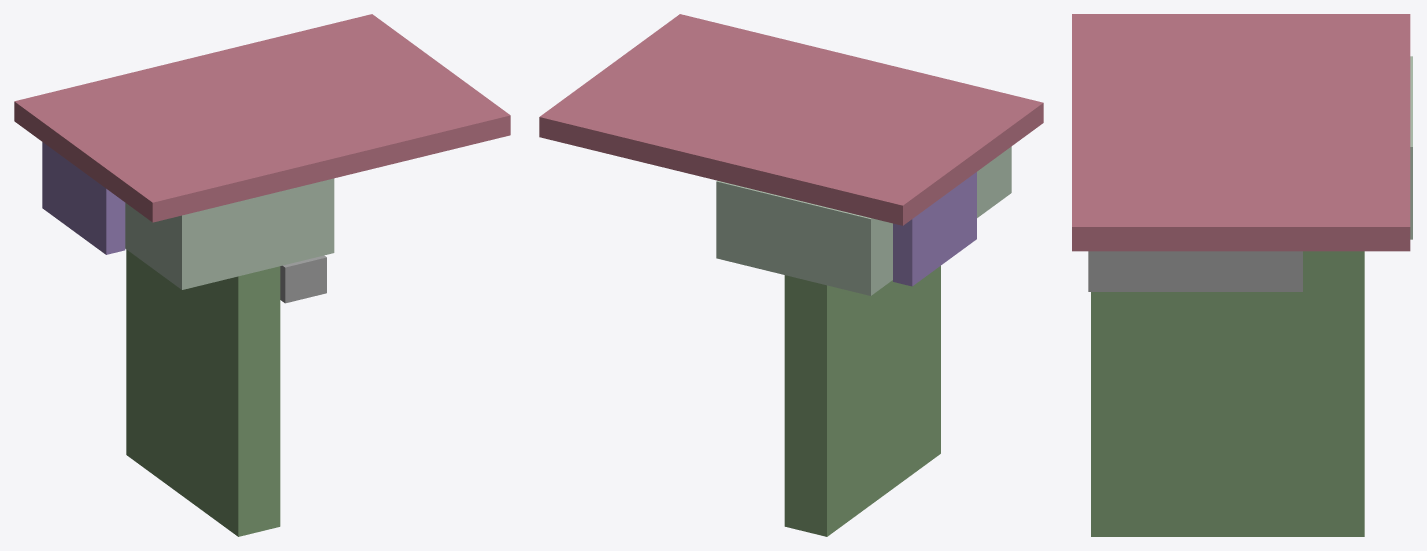
The model's file is 239527_pred.glb.
The picture shows the model from 3 angles, left to right: view 1: azimuth 30°, elevation 25°; view 2: azimuth 150°, elevation 25°; view 3: azimuth 270°, elevation 25°; orthographic projection. The views are drawn at different scales.
Visible parts, largest first — view 1: world; view 2: world; view 3: world.
Boxes of the visible parts, x1,y1,x2,y2 form: world: (14,14,510,536); world: (539,14,1043,536); world: (1072,14,1412,536).
Size of the model in its own units: 9.4 by 9.1 by 6.35.
